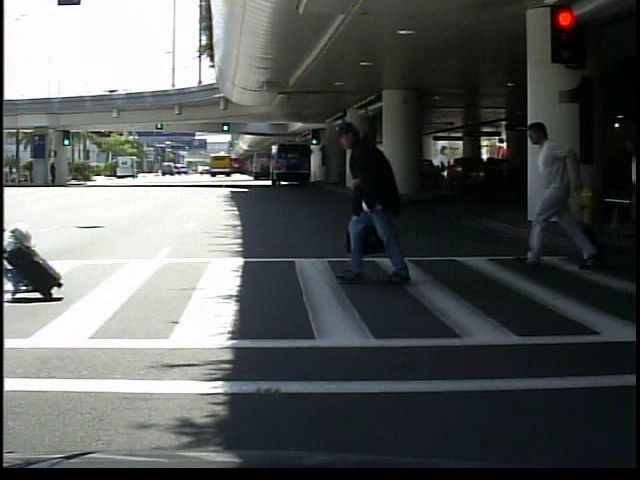person: (330, 115, 420, 286), (528, 113, 593, 270)
